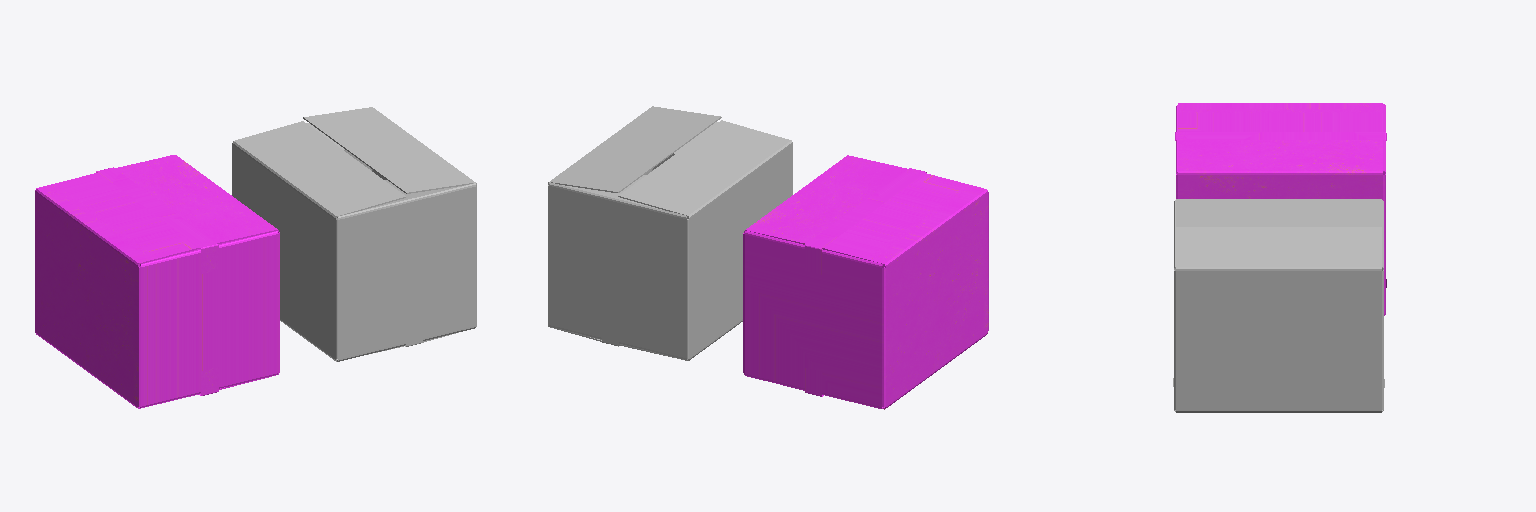
3 renders of one model, left to right at view 1: azimuth 30°, elevation 25°; view 2: azimuth 150°, elevation 25°; view 3: azimuth 270°, elevation 25°, orthographic.
Parts seen in each view (by area): view 1: Object_10, Object_9, Object_2; view 2: Object_10, Object_9, Object_2; view 3: Object_9, Object_10, Object_2.
Boxes of the visible parts, box(x1,y1,x2,y2) form: Object_10: box(35, 155, 279, 408); Object_9: box(232, 107, 476, 361); Object_2: box(96, 167, 218, 273); Object_10: box(743, 155, 988, 409); Object_9: box(548, 106, 792, 360); Object_2: box(805, 168, 926, 274); Object_9: box(1173, 199, 1384, 412); Object_10: box(1176, 103, 1386, 315); Object_2: box(1175, 132, 1386, 140).
Size of the model in its own units: 0.9925 by 0.4327 by 0.5411.
Materials: 3 (1 with a texture image).